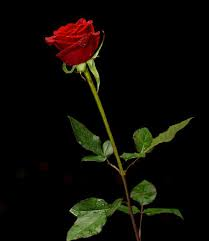lale: (38, 9, 166, 209)
